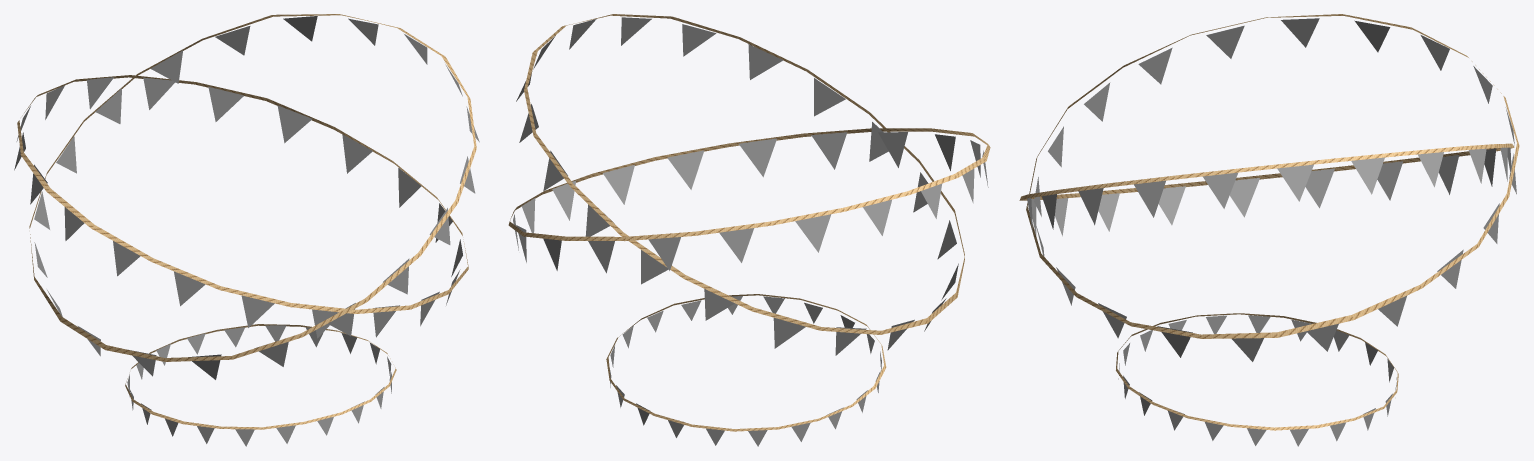
Rendered from Bunting.fbx.
The picture shows the model from 3 angles, left to right: view 1: azimuth 30°, elevation 25°; view 2: azimuth 150°, elevation 25°; view 3: azimuth 270°, elevation 25°; orthographic projection. The views are drawn at different scales.
Parts seen in each view (by area): view 1: polySurface108, polySurface107, polySurface109; view 2: polySurface108, polySurface107, polySurface109; view 3: polySurface107, polySurface108, polySurface109.
Part boxes in pixels (left/top/right/bottom): polySurface108: left=14, top=75, right=468, bottom=338; polySurface107: left=29, top=14, right=479, bottom=379; polySurface109: left=125, top=324, right=396, bottom=446; polySurface108: left=508, top=128, right=990, bottom=273; polySurface107: left=516, top=14, right=964, bottom=355; polySurface109: left=606, top=294, right=886, bottom=446; polySurface107: left=1019, top=143, right=1514, bottom=236; polySurface108: left=1026, top=14, right=1519, bottom=361; polySurface109: left=1116, top=313, right=1398, bottom=446.
Bounding box in the file's own units: 16.09 × 12.02 × 16.63.
